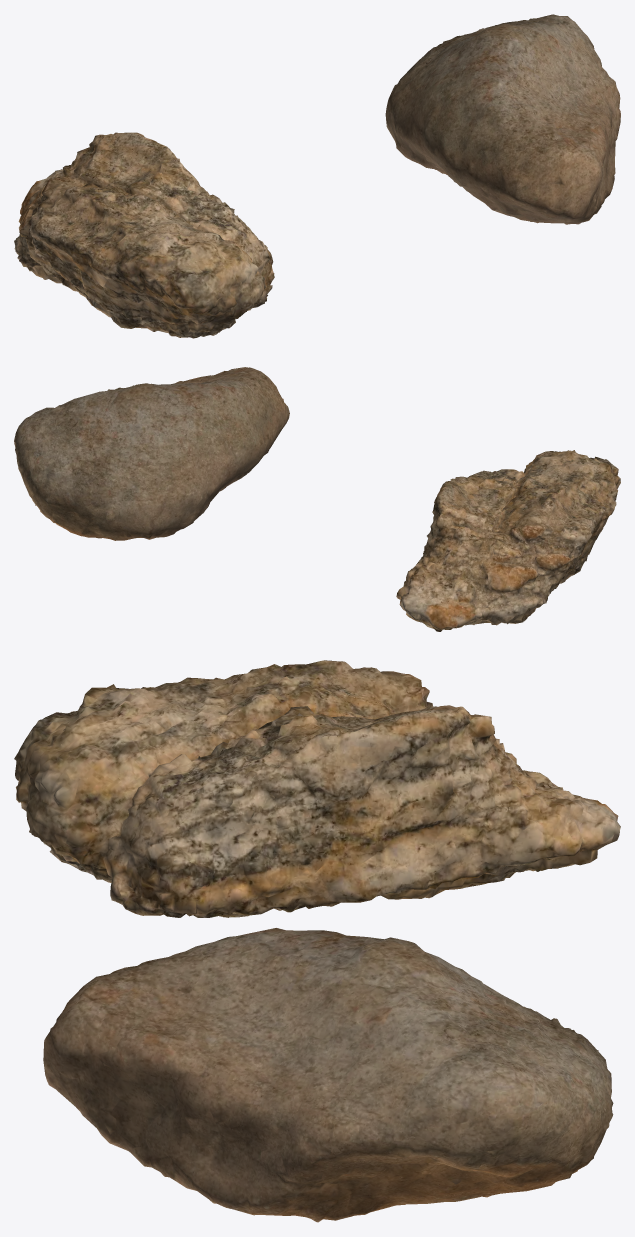
The model's file is stones_small_01.glb.
3 renders of one model, top to bottom at view 1: azimuth 30°, elevation 25°; view 2: azimuth 150°, elevation 25°; view 3: azimuth 270°, elevation 25°, orthographic. The views are drawn at different scales.
Parts seen in each view (by area): view 1: namaqualand_rocks_01_a; view 2: namaqualand_rocks_01_a; view 3: namaqualand_rocks_01_a.
Part boxes in pixels (x1,y1,x2,y2): namaqualand_rocks_01_a: [14, 14, 620, 338]; namaqualand_rocks_01_a: [14, 367, 620, 631]; namaqualand_rocks_01_a: [14, 660, 620, 1222].
Bounding box in the file's own units: 1.06 × 0.2514 × 0.5866.
1 material, 1 textured.
